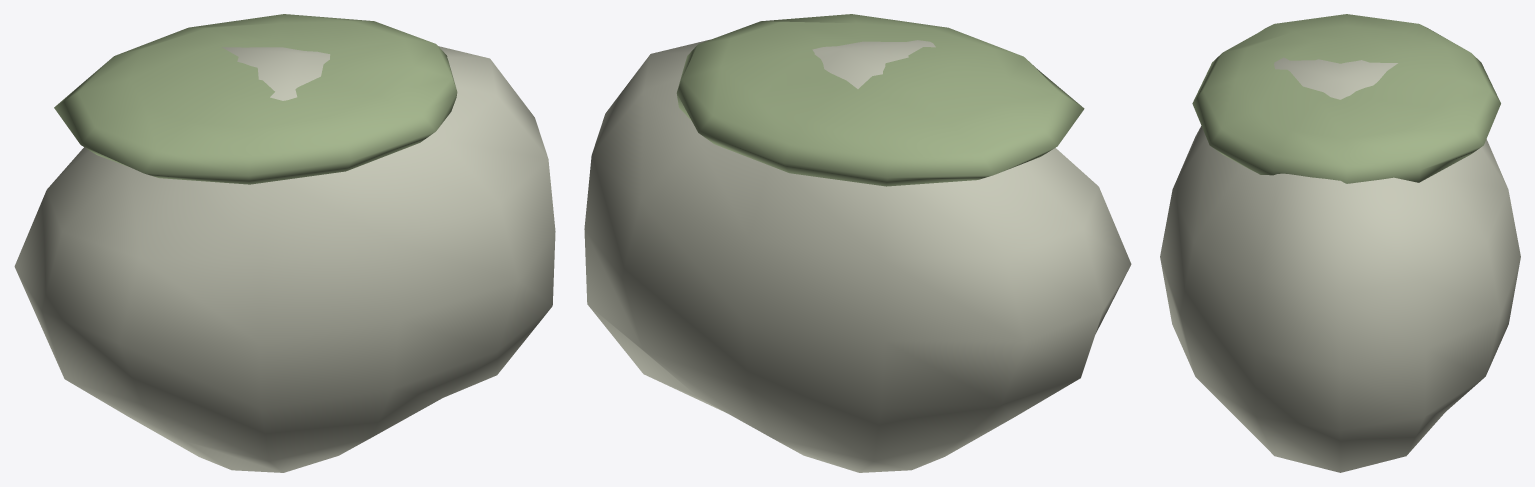
Rendered from SM_Rock_3_UV9615.fbx.
The picture shows the model from 3 angles, left to right: view 1: azimuth 30°, elevation 25°; view 2: azimuth 150°, elevation 25°; view 3: azimuth 270°, elevation 25°; orthographic projection. The views are drawn at different scales.
Parts seen in each view (by area): view 1: SM_Rock_3_UV9615; view 2: SM_Rock_3_UV9615; view 3: SM_Rock_3_UV9615.
Part boxes in pixels (bbox=[...]): SM_Rock_3_UV9615: bbox=[14, 14, 555, 472]; SM_Rock_3_UV9615: bbox=[584, 14, 1131, 472]; SM_Rock_3_UV9615: bbox=[1160, 14, 1520, 472].
Size of the model in its own units: 426 by 288 by 312.
